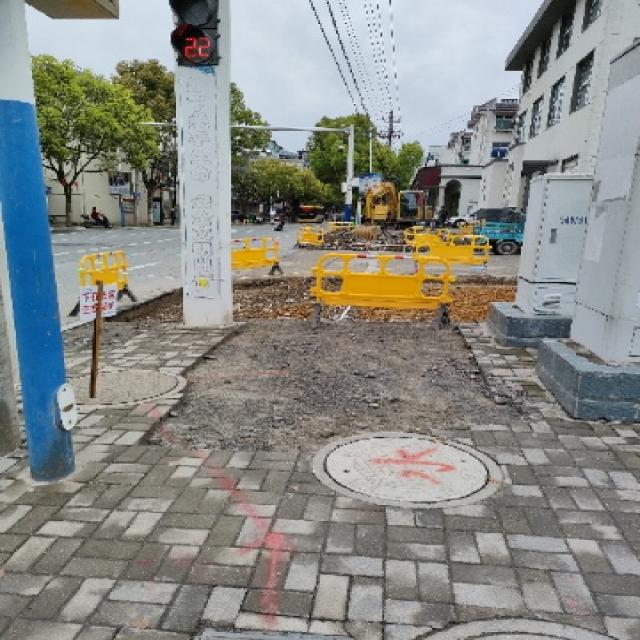Good: (306, 425, 542, 521), (41, 359, 195, 408)
